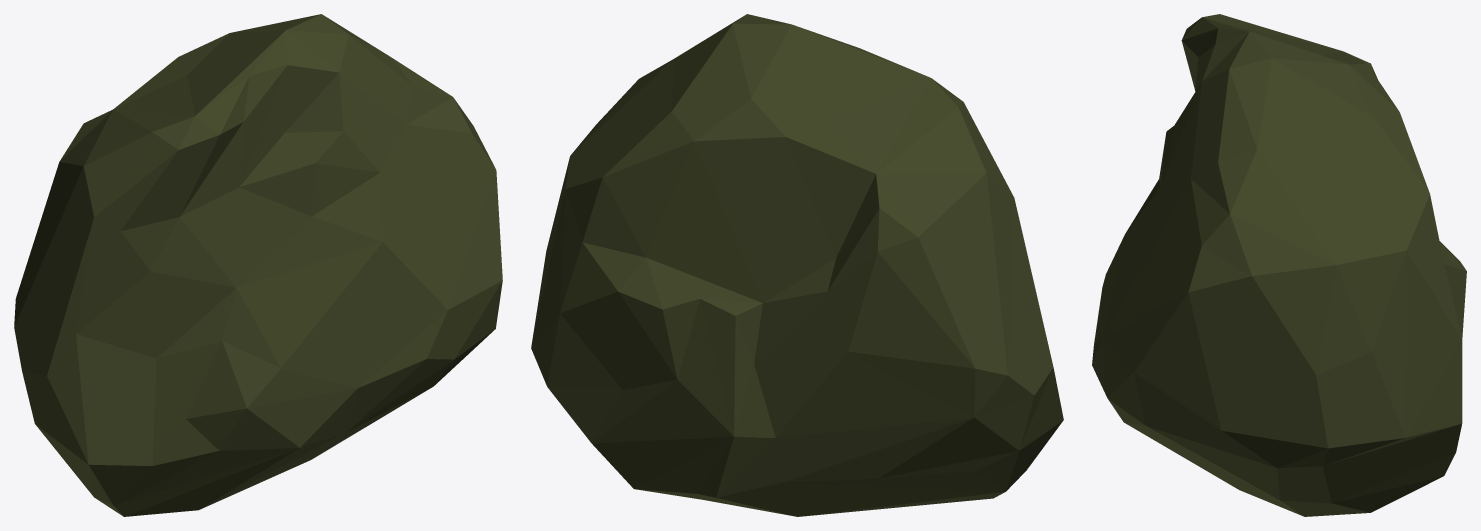
File: SM_small_rock_26.fbx
3 renders of one model, left to right at view 1: azimuth 30°, elevation 25°; view 2: azimuth 150°, elevation 25°; view 3: azimuth 270°, elevation 25°, orthographic. The views are drawn at different scales.
Visible parts, largest first — view 1: small_rock_26; view 2: small_rock_26; view 3: small_rock_26.
Boxes of the visible parts, <box> form: small_rock_26: <box>14,14,502,516</box>; small_rock_26: <box>531,14,1063,516</box>; small_rock_26: <box>1092,14,1466,516</box>.
Bounding box in the file's own units: 10.91 × 9.92 × 7.52.
